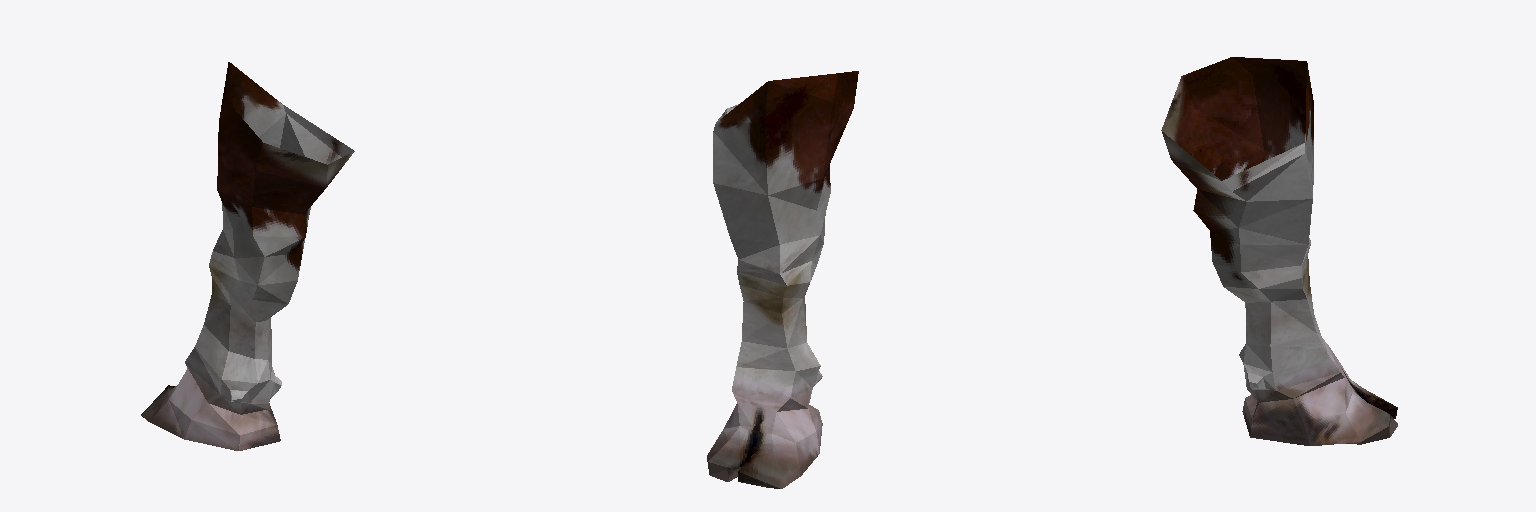
3 views of the same model, side by side, from view 1: azimuth 30°, elevation 25°; view 2: azimuth 150°, elevation 25°; view 3: azimuth 270°, elevation 25° (orthographic).
Parts seen in each view (by area): view 1: Object001; view 2: Object001; view 3: Object001.
Part boxes in pixels (x1,y1,x2,y2): Object001: (141, 62, 354, 450); Object001: (707, 71, 858, 488); Object001: (1161, 57, 1397, 445).
Size of the model in its own units: 1.1 by 2.82 by 1.61.
1 materials, 1 textured.